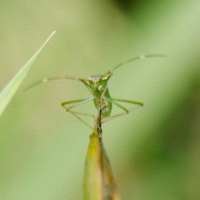insect: (26, 54, 165, 199)
